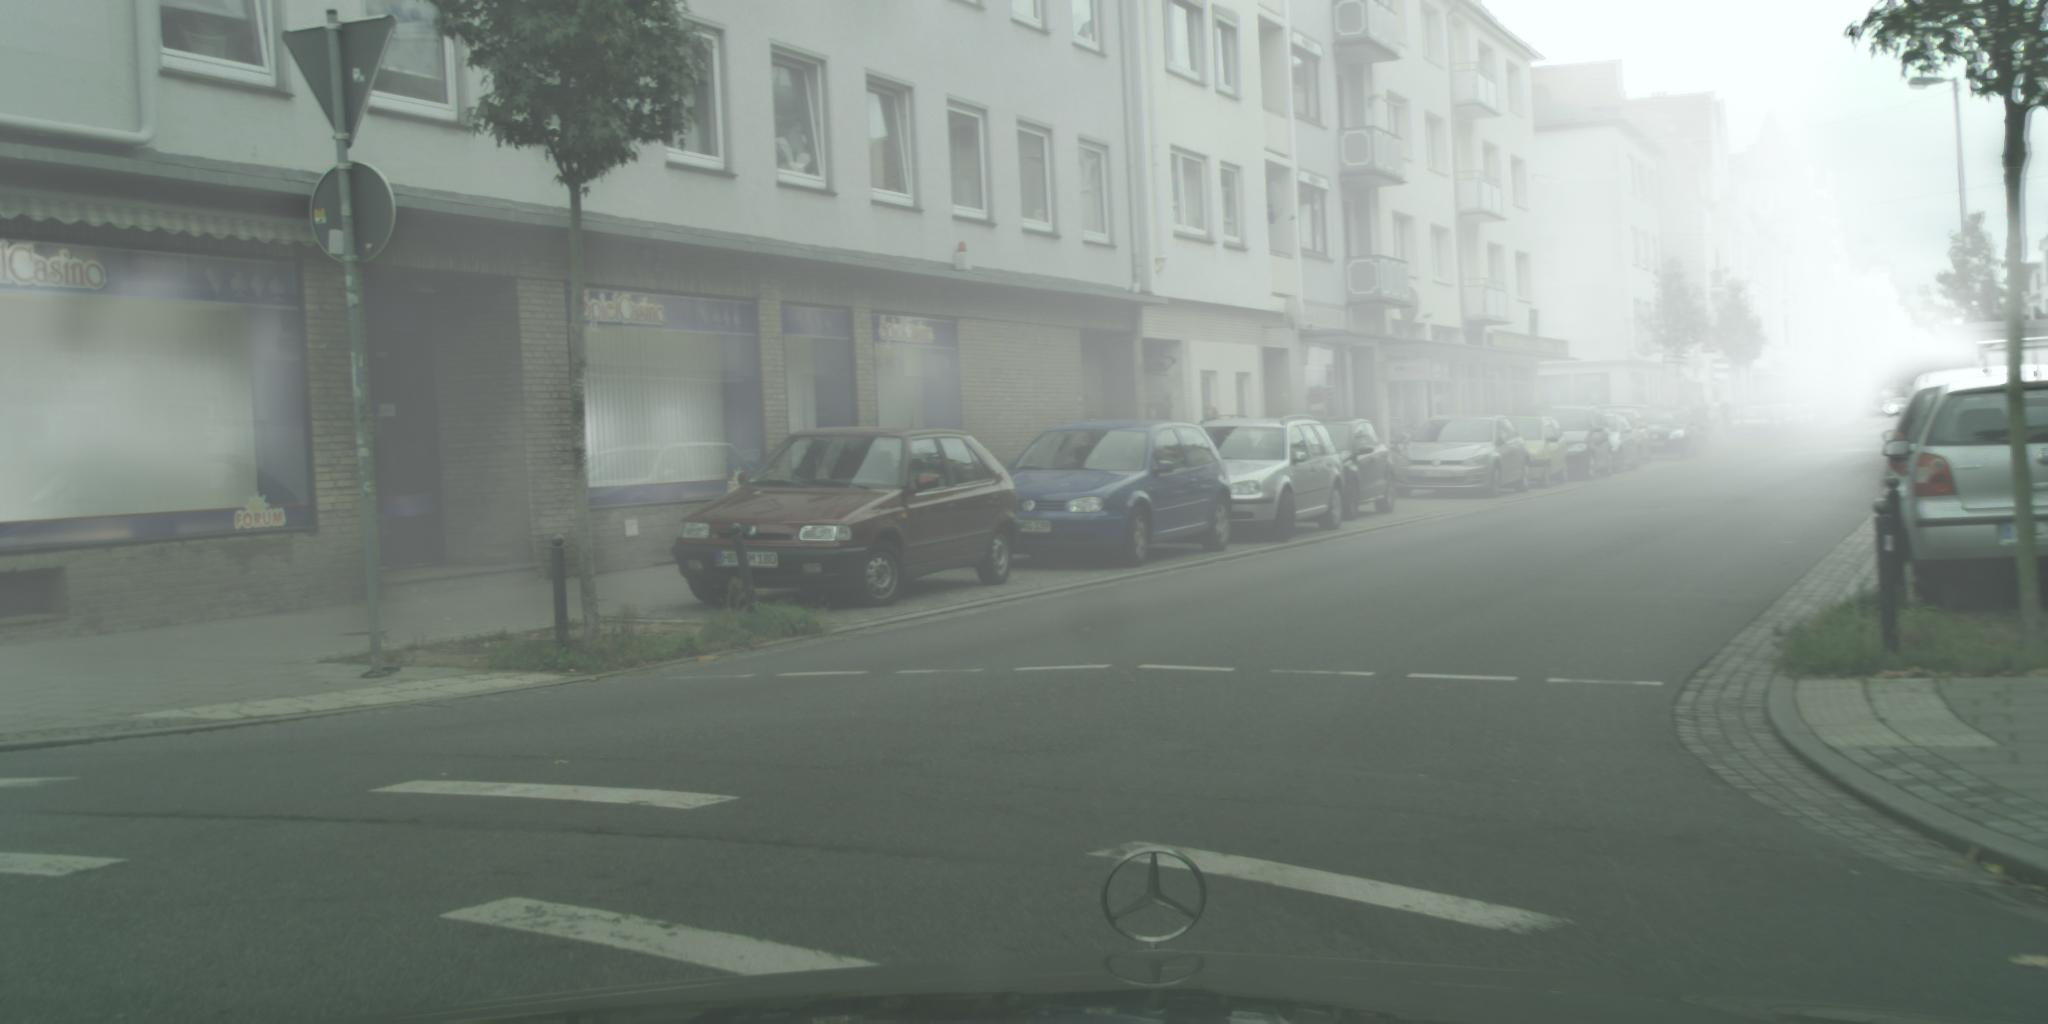car: (677, 424, 1023, 615), (1883, 376, 2048, 613), (1008, 417, 1236, 569), (1881, 366, 2048, 539), (1192, 414, 1345, 543), (1390, 415, 1533, 500), (1318, 421, 1398, 522), (1524, 405, 1614, 482), (1503, 415, 1570, 488), (1640, 409, 1708, 460), (1600, 408, 1652, 465), (1597, 411, 1640, 474), (1883, 397, 1917, 421)
